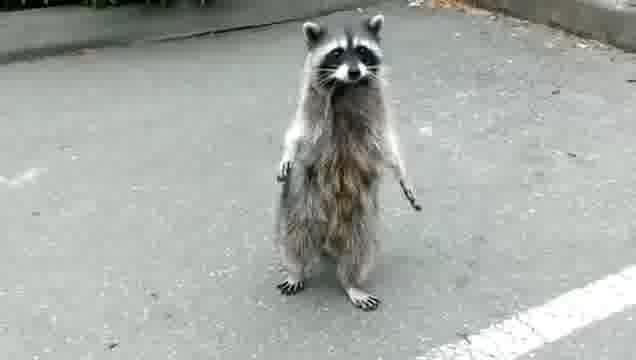raccoon: (277, 12, 424, 311)
